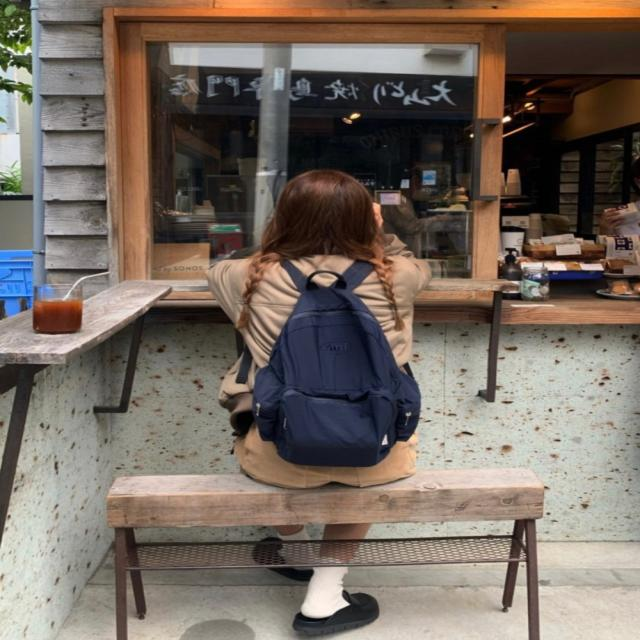backpack: (223, 268, 434, 477)
